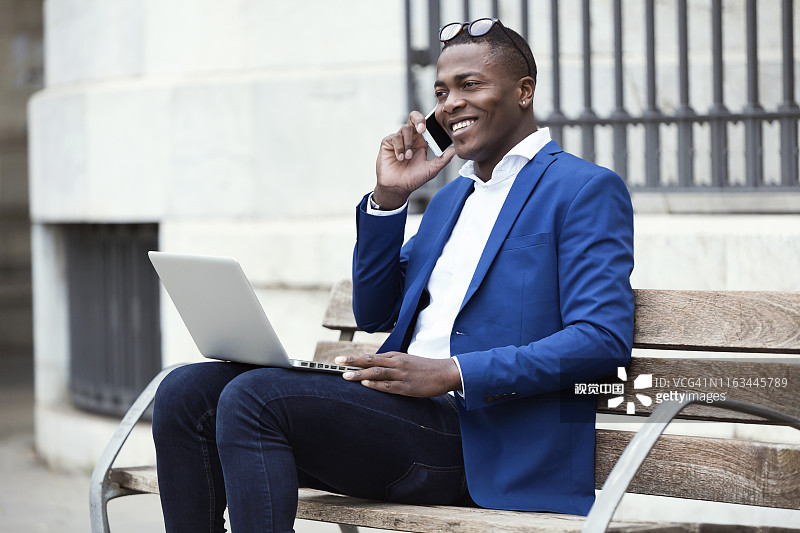calling: (363, 93, 470, 204)
no-phone: (322, 341, 483, 403)
